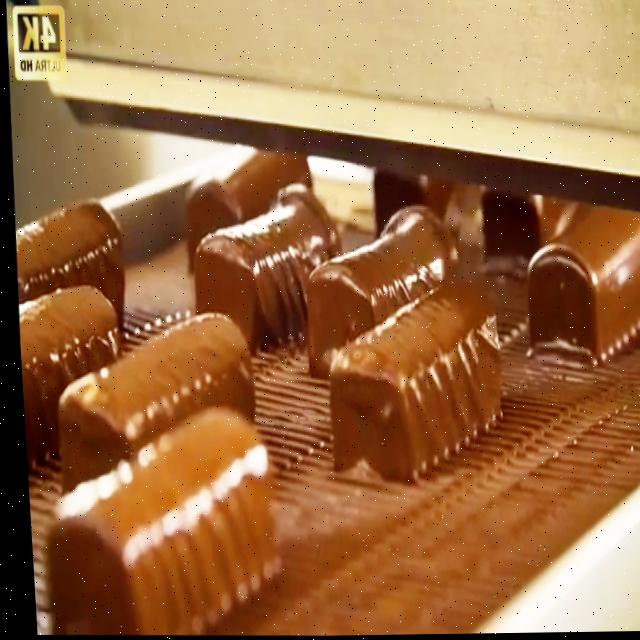Choco: (29, 399, 277, 633), (45, 302, 257, 492), (316, 273, 506, 484), (294, 198, 457, 381), (184, 177, 344, 352), (13, 269, 122, 467), (516, 199, 640, 368), (171, 152, 317, 289), (11, 190, 127, 323)
